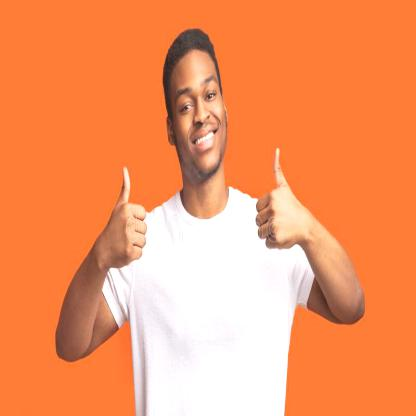Thumbs up: (251, 142, 303, 252), (104, 155, 146, 258)
